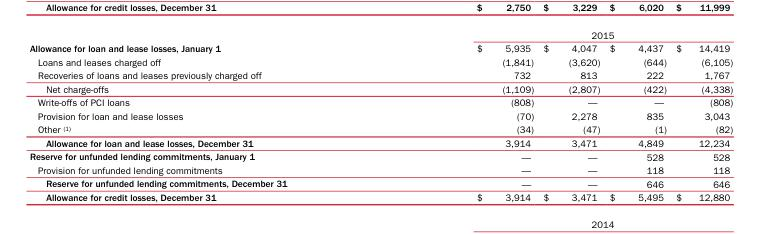table: (28, 28, 732, 202)
table column: (28, 28, 381, 202), (381, 28, 537, 202), (537, 28, 604, 202), (604, 28, 670, 202), (670, 28, 732, 202)
table column header: (28, 28, 732, 54)
table row: (28, 54, 732, 68), (28, 81, 732, 95), (28, 108, 732, 122), (28, 135, 732, 149), (28, 149, 732, 163), (28, 176, 732, 190), (28, 28, 732, 41), (28, 41, 732, 54), (28, 68, 732, 81), (28, 95, 732, 108), (28, 122, 732, 135), (28, 163, 732, 176), (28, 190, 732, 202)
table spanning cell: (28, 28, 381, 54), (381, 28, 732, 41)
